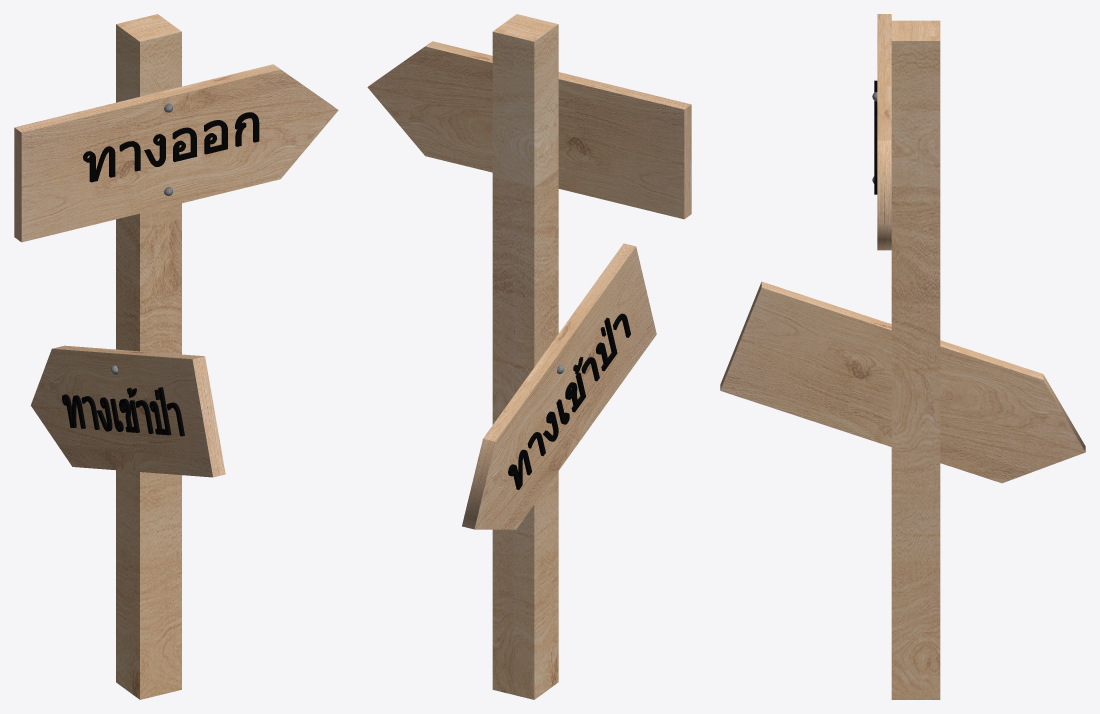
File: WayPointer3.fbx
The picture shows the model from 3 angles, left to right: view 1: azimuth 30°, elevation 25°; view 2: azimuth 150°, elevation 25°; view 3: azimuth 270°, elevation 25°; orthographic projection.
Parts seen in each view (by area): view 1: polySurface12; view 2: polySurface12; view 3: polySurface12.
Part boxes in pixels (x1=…): polySurface12: x1=14, y1=14, x2=338, y2=699; polySurface12: x1=367, y1=14, x2=691, y2=699; polySurface12: x1=720, y1=14, x2=1085, y2=699.
Size of the model in its own units: 75.64 by 150 by 75.37.
Materials: 3 (2 with a texture image).
